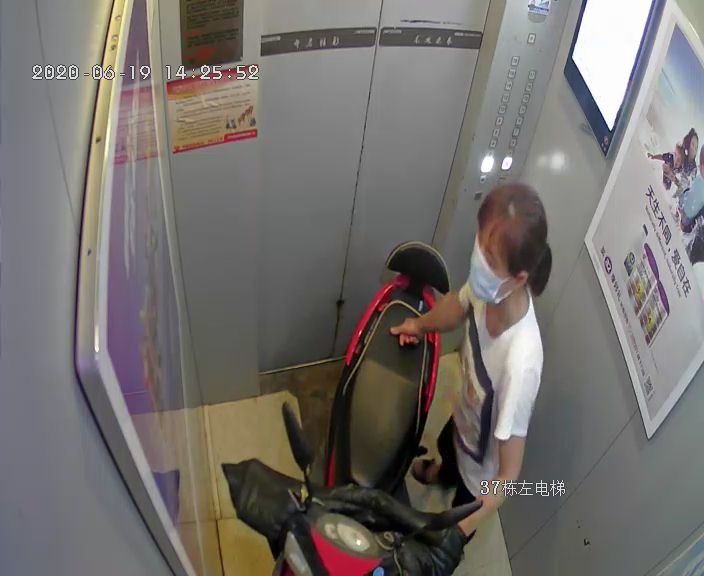Electric-bicycle: (225, 241, 480, 576)
